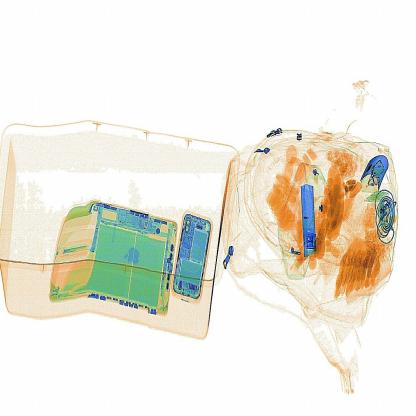pliers: (294, 175, 323, 269)
